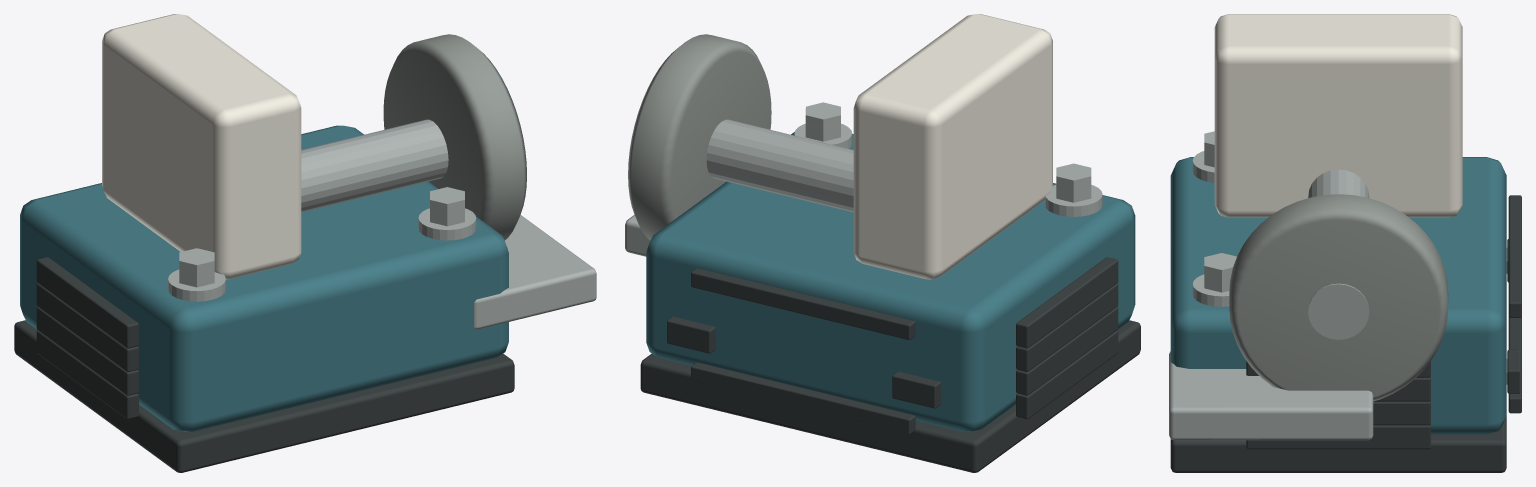
File: optician-and-optical-lens-workshop-optician-and-optica-6ee8bdcf__31695.glb
The picture shows the model from 3 angles, left to right: view 1: azimuth 30°, elevation 25°; view 2: azimuth 150°, elevation 25°; view 3: azimuth 270°, elevation 25°; orthographic projection.
Visible parts, largest first — view 1: optician-and-optical-lens-workshop-hand-lens-finishing-wheel (×5); view 2: optician-and-optical-lens-workshop-hand-lens-finishing-wheel (×5); view 3: optician-and-optical-lens-workshop-hand-lens-finishing-wheel (×5).
Boxes of the visible parts, x1=… form: optician-and-optical-lens-workshop-hand-lens-finishing-wheel (×5): x1=14, y1=14, x2=596, y2=472; optician-and-optical-lens-workshop-hand-lens-finishing-wheel (×5): x1=625, y1=14, x2=1140, y2=472; optician-and-optical-lens-workshop-hand-lens-finishing-wheel (×5): x1=1169, y1=14, x2=1521, y2=472.
Bounding box in the file's own units: 0.346 × 0.25 × 0.2417.
